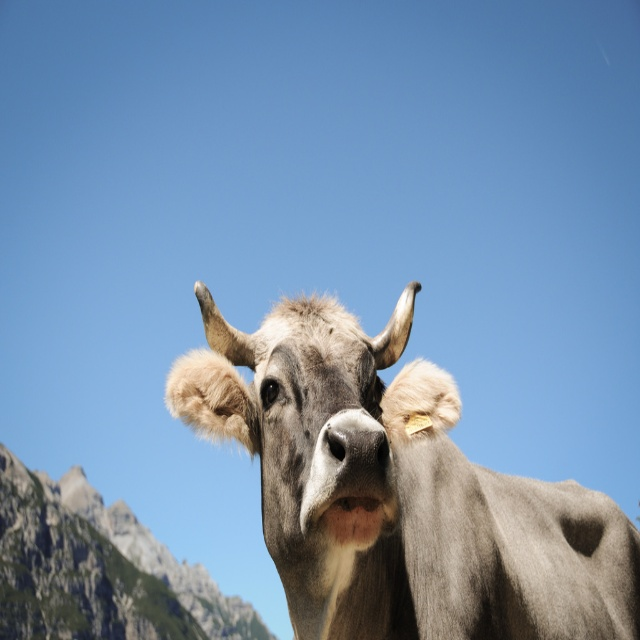Cattle: (177, 266, 610, 640)
